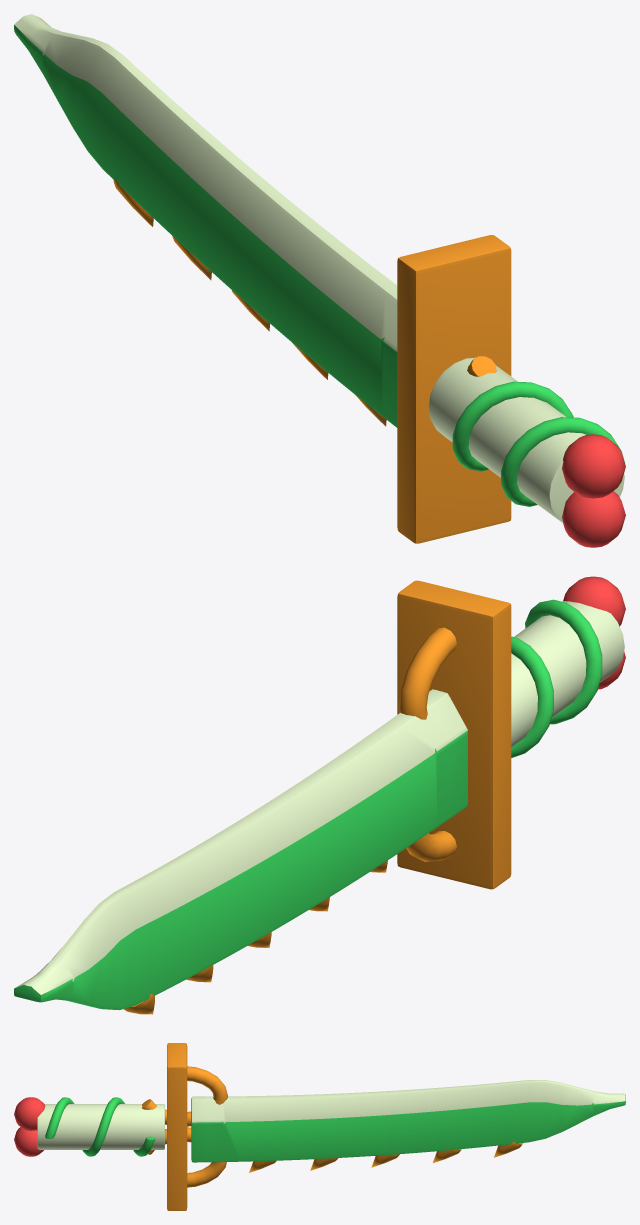
Rendered from Sword_BramblecutSabre.glb.
The picture shows the model from 3 angles, top to bottom: view 1: azimuth 30°, elevation 25°; view 2: azimuth 150°, elevation 25°; view 3: azimuth 270°, elevation 25°; orthographic projection. The views are drawn at different scales.
Visible parts, largest first — view 1: Sword_BramblecutSabre; view 2: Sword_BramblecutSabre; view 3: Sword_BramblecutSabre.
Part boxes in pixels (left/top/right/bottom): Sword_BramblecutSabre: left=14, top=14, right=625, bottom=547; Sword_BramblecutSabre: left=14, top=576, right=625, bottom=1014; Sword_BramblecutSabre: left=14, top=1043, right=625, bottom=1210.
Size of the model in its own units: 0.098 by 0.26 by 1.
1 material, 1 textured.
